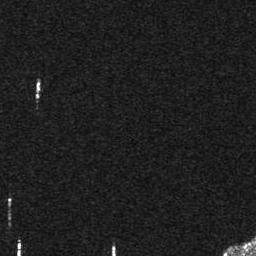ship: (14, 238, 24, 256), (34, 80, 42, 99), (110, 244, 116, 256)
